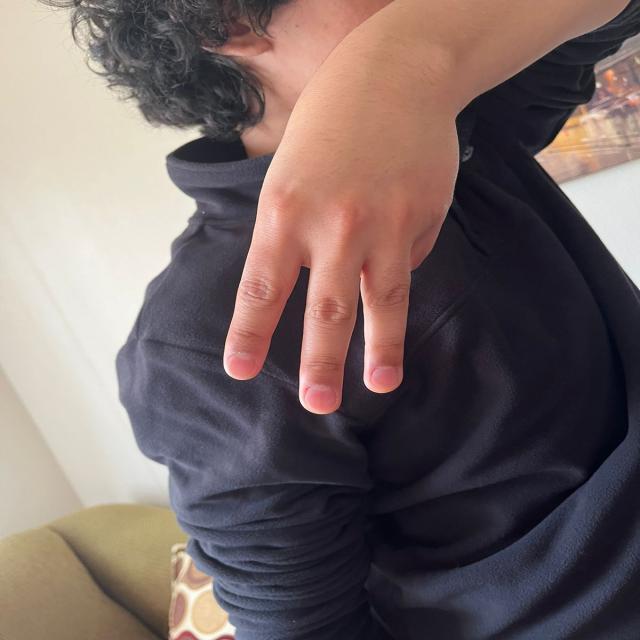M: (216, 75, 459, 419)
